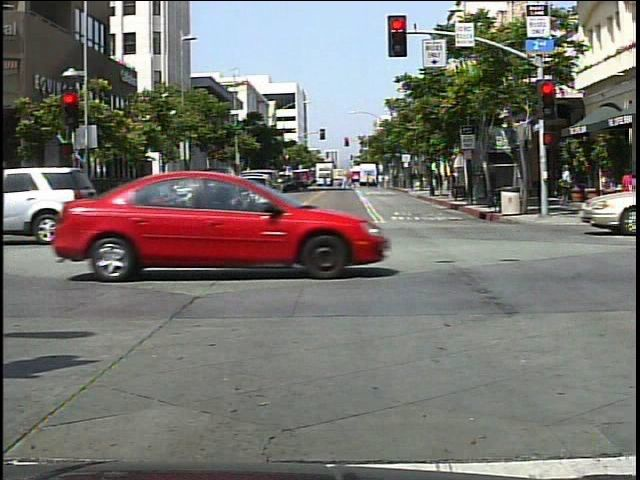person: (58, 171, 89, 235), (555, 162, 578, 213), (616, 166, 639, 195)
